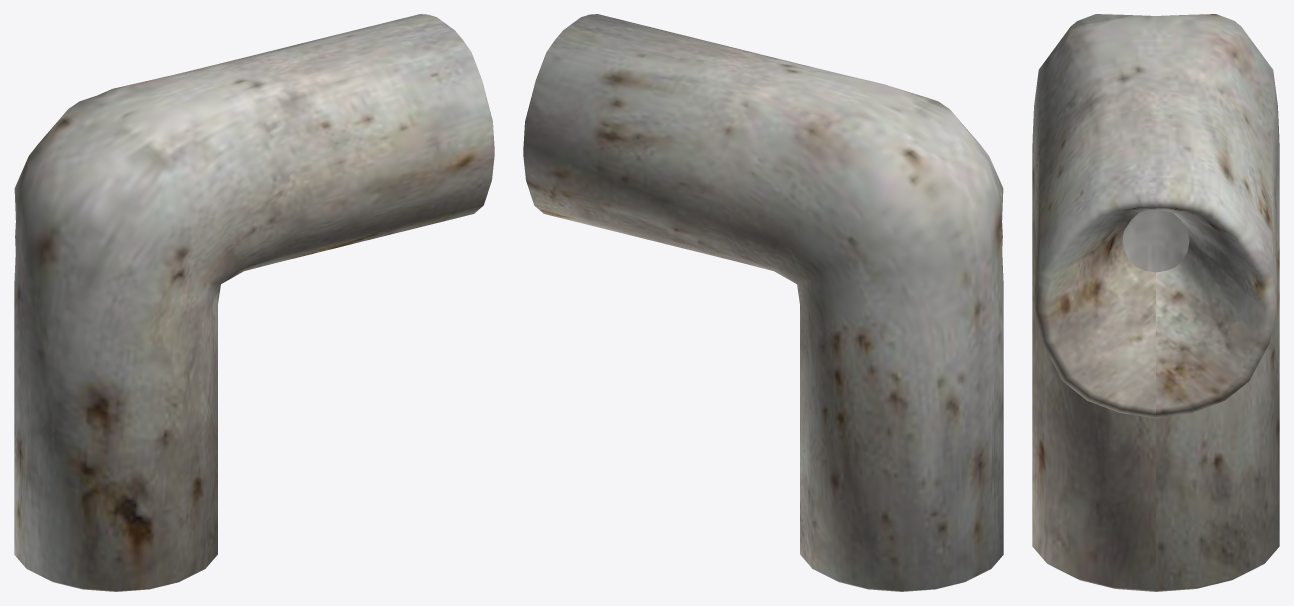
The model's file is Pipe04-model.fbx.
3 renders of one model, left to right at view 1: azimuth 30°, elevation 25°; view 2: azimuth 150°, elevation 25°; view 3: azimuth 270°, elevation 25°, orthographic. The views are drawn at different scales.
Parts seen in each view (by area): view 1: elbow; view 2: elbow; view 3: elbow.
Part boxes in pixels (x1,y1,x2,y2): elbow: [14, 14, 494, 591]; elbow: [523, 14, 1003, 591]; elbow: [1032, 14, 1279, 591].
Size of the model in its own units: 8.75 by 8.89 by 3.65.
Materials: 1 (1 with a texture image).
